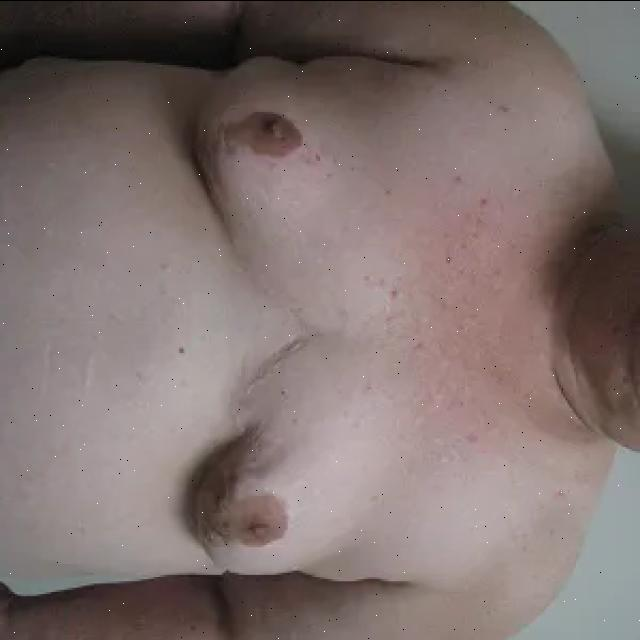Seno herido: (168, 333, 398, 581), (172, 50, 402, 298)
